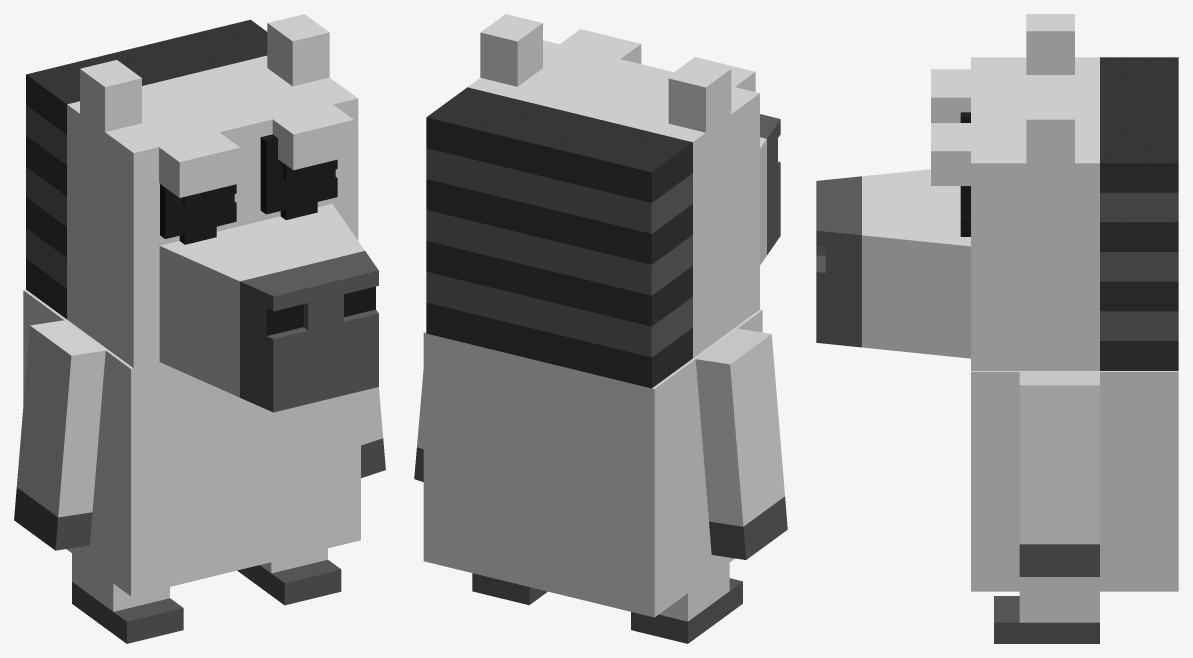
3 views of the same model, side by side, from view 1: azimuth 30°, elevation 25°; view 2: azimuth 150°, elevation 25°; view 3: azimuth 270°, elevation 25° (orthographic). The views are drawn at different scales.
Visible parts, largest first — view 1: Ch_31_Head, Ch_31, Ch_31_Hand_L, Ch_31_Eyebrow, Ch_31_Leg_L, Ch_31_Leg_R, Ch_31_Eye_01, Ch_31_Eye_03_R, Ch_31_Hand_R, Ch_31_Eye_02, Ch_31_Eye_03_L; view 2: Ch_31_Head, Ch_31, Ch_31_Hand_L, Ch_31_Leg_L, Ch_31_Eyebrow, Ch_31_Leg_R, Ch_31_Hand_R; view 3: Ch_31_Head, Ch_31, Ch_31_Hand_R, Ch_31_Leg_R, Ch_31_Eyebrow.
Part boxes in pixels (x1=…): Ch_31_Head: x1=26, y1=14, x2=378, y2=412; Ch_31: x1=23, y1=289, x2=360, y2=596; Ch_31_Hand_L: x1=14, y1=320, x2=105, y2=550; Ch_31_Eyebrow: x1=159, y1=104, x2=353, y2=197; Ch_31_Leg_L: x1=72, y1=553, x2=183, y2=643; Ch_31_Leg_R: x1=237, y1=548, x2=341, y2=605; Ch_31_Eye_01: x1=179, y1=163, x2=317, y2=244; Ch_31_Eye_03_R: x1=260, y1=134, x2=337, y2=214; Ch_31_Hand_R: x1=361, y1=387, x2=385, y2=478; Ch_31_Eye_02: x1=167, y1=169, x2=335, y2=228; Ch_31_Eye_03_L: x1=160, y1=184, x2=236, y2=238; Ch_31_Head: x1=426, y1=14, x2=780, y2=388; Ch_31: x1=423, y1=309, x2=762, y2=617; Ch_31_Hand_L: x1=695, y1=328, x2=787, y2=559; Ch_31_Leg_L: x1=631, y1=563, x2=742, y2=643; Ch_31_Eyebrow: x1=560, y1=29, x2=755, y2=91; Ch_31_Leg_R: x1=472, y1=573, x2=547, y2=605; Ch_31_Hand_R: x1=414, y1=370, x2=423, y2=482; Ch_31_Head: x1=816, y1=14, x2=1178, y2=370; Ch_31: x1=971, y1=371, x2=1178, y2=591; Ch_31_Hand_R: x1=1019, y1=372, x2=1099, y2=576; Ch_31_Leg_R: x1=994, y1=591, x2=1099, y2=643; Ch_31_Eyebrow: x1=931, y1=69, x2=970, y2=185.
Bounding box in the file's own units: 7.73 × 12.2 × 7.61.
